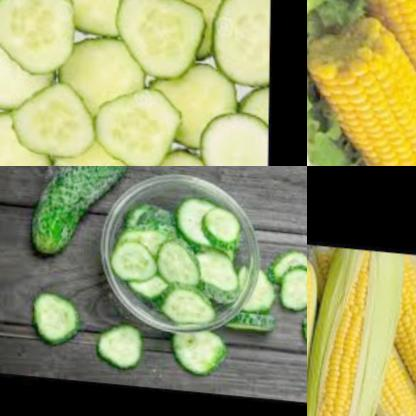corn: (307, 1, 416, 166), (307, 240, 406, 416), (355, 0, 416, 157), (380, 246, 416, 416), (363, 333, 416, 416)
cucumber: (0, 0, 271, 166), (116, 187, 237, 321), (36, 166, 129, 263), (247, 237, 307, 340), (168, 317, 233, 378), (33, 283, 82, 346), (95, 312, 148, 367)
salad: (307, 63, 406, 166), (307, 0, 416, 75)
